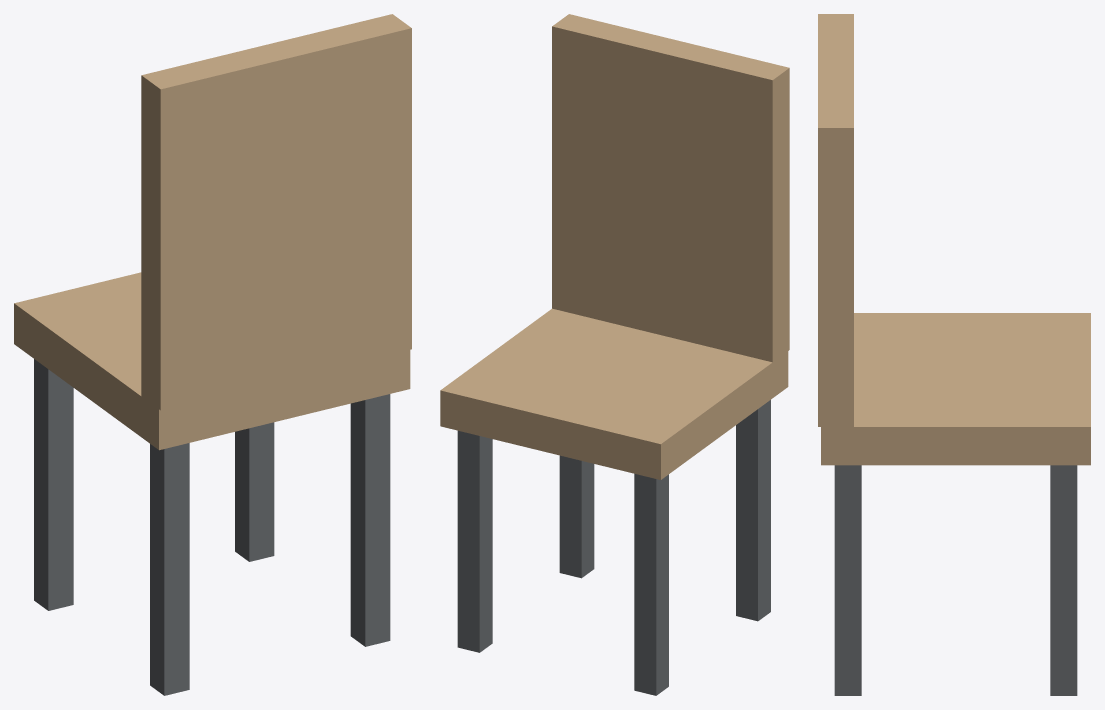
Rendered from chair_05.glb.
3 views of the same model, side by side, from view 1: azimuth 30°, elevation 25°; view 2: azimuth 150°, elevation 25°; view 3: azimuth 270°, elevation 25° (orthographic). The views are drawn at different scales.
Visible parts, largest first — view 1: back, seat, leg0.180.18, leg-0.180.18, leg-0.18-0.18, leg0.18-0.18; view 2: back, seat, leg0.18-0.18, leg-0.18-0.18, leg-0.180.18, leg0.180.18; view 3: seat, back, leg0.18-0.18, leg0.180.18.
Boxes of the visible parts, x1,y1,x2,y2 form: back: [141, 14, 411, 410]; seat: [14, 272, 410, 450]; leg0.180.18: [350, 394, 390, 646]; leg-0.180.18: [150, 443, 189, 695]; leg-0.18-0.18: [34, 359, 73, 610]; leg0.18-0.18: [235, 422, 274, 561]; back: [552, 14, 789, 362]; seat: [440, 308, 788, 479]; leg0.18-0.18: [457, 430, 492, 652]; leg-0.18-0.18: [634, 473, 668, 695]; leg-0.180.18: [736, 400, 770, 621]; leg0.180.18: [559, 455, 594, 578]; seat: [821, 313, 1090, 465]; back: [818, 14, 853, 426]; leg0.18-0.18: [1050, 465, 1077, 695]; leg0.180.18: [834, 465, 861, 695].
Size of the model in its own units: 0.45 by 1.05 by 0.455.
